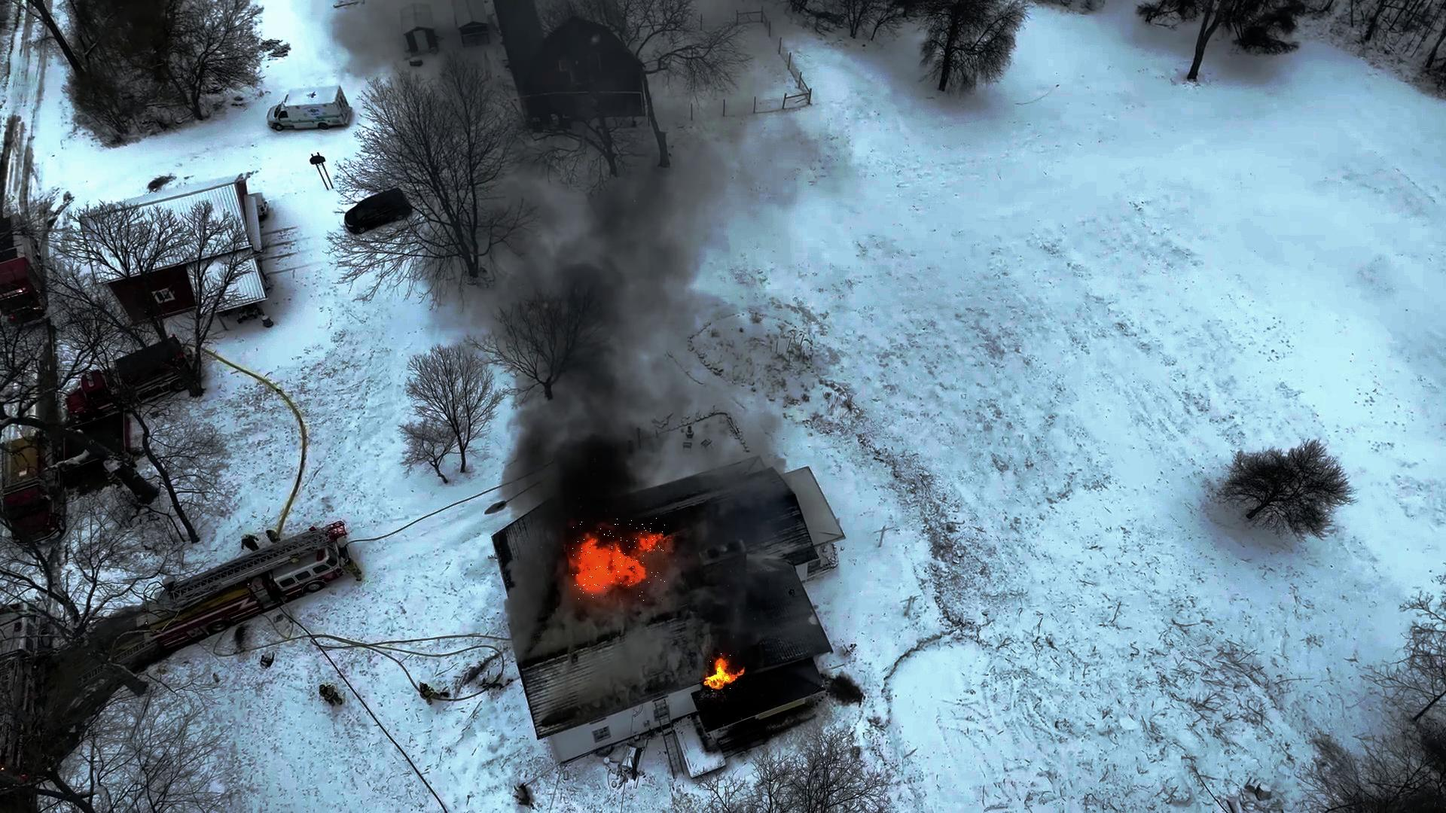fire: (569, 518, 665, 601), (703, 642, 737, 693)
